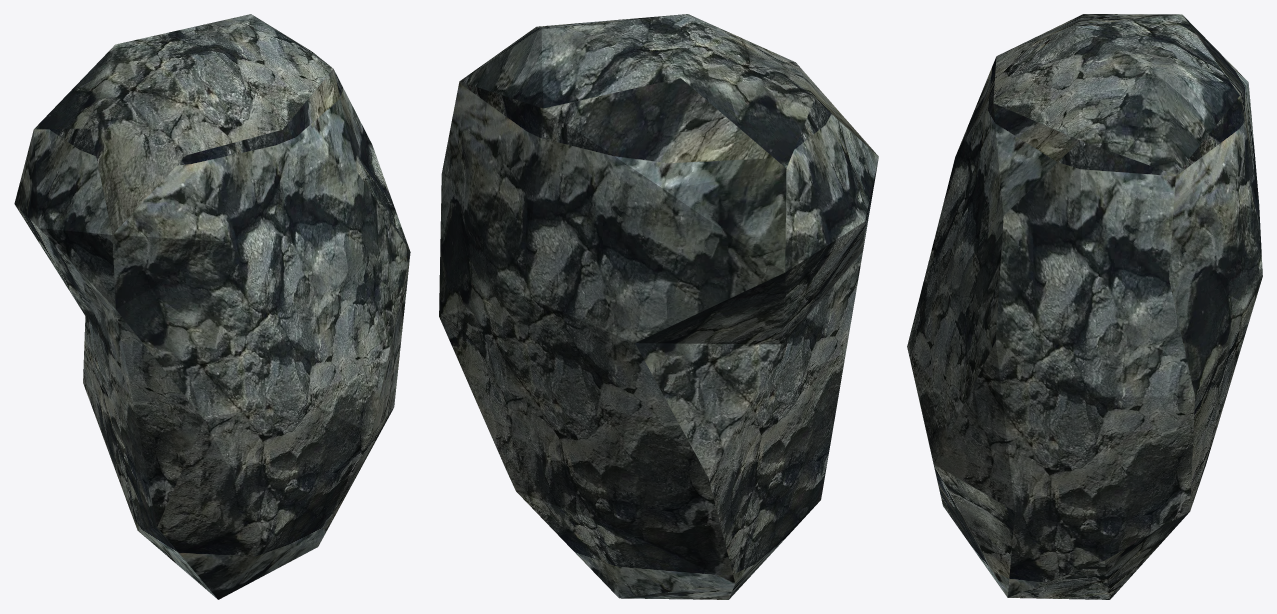
Rendered from ITAT_STONEGOLEMHEART.glb.
The picture shows the model from 3 angles, left to right: view 1: azimuth 30°, elevation 25°; view 2: azimuth 150°, elevation 25°; view 3: azimuth 270°, elevation 25°; orthographic projection. The views are drawn at different scales.
Parts seen in each view (by area): view 1: ITAT_STONEGOLEMHEART; view 2: ITAT_STONEGOLEMHEART; view 3: ITAT_STONEGOLEMHEART.
Part boxes in pixels (<box>): ITAT_STONEGOLEMHEART: <box>14,14,410,599</box>; ITAT_STONEGOLEMHEART: <box>439,14,878,599</box>; ITAT_STONEGOLEMHEART: <box>907,14,1262,599</box>.
Size of the model in its own units: 0.2162 by 0.3053 by 0.1735.
1 material, 1 textured.
